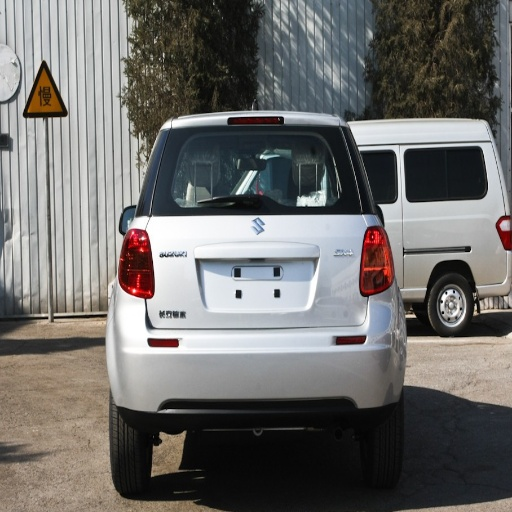back_bumper: (113, 289, 403, 435)
tailgate: (241, 268, 348, 328)
trunk: (120, 217, 366, 347)
